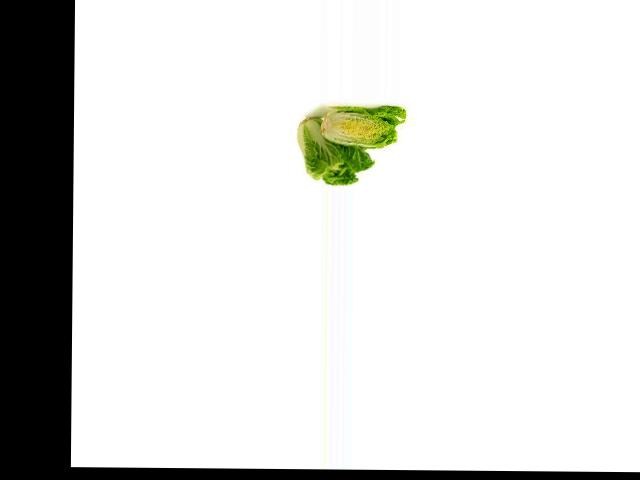lettuce: (295, 112, 379, 189)
